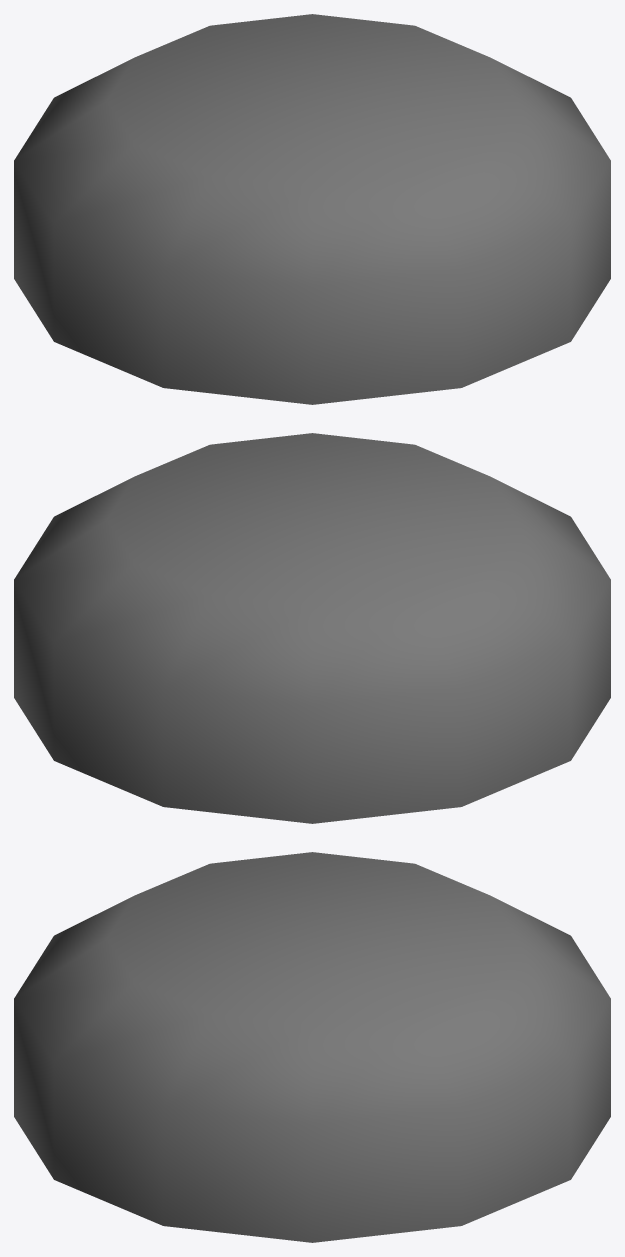
The model's file is Bolt.FBX.
The picture shows the model from 3 angles, top to bottom: view 1: azimuth 30°, elevation 25°; view 2: azimuth 150°, elevation 25°; view 3: azimuth 270°, elevation 25°; orthographic projection.
Visible parts, largest first — view 1: Bolt; view 2: Bolt; view 3: Bolt.
Boxes of the visible parts, bbox=[...] form: Bolt: bbox=[14, 14, 610, 404]; Bolt: bbox=[14, 433, 610, 823]; Bolt: bbox=[14, 852, 610, 1242].
Size of the model in its own units: 3.61 by 1.19 by 3.61.
Materials: 1 (1 with a texture image).
